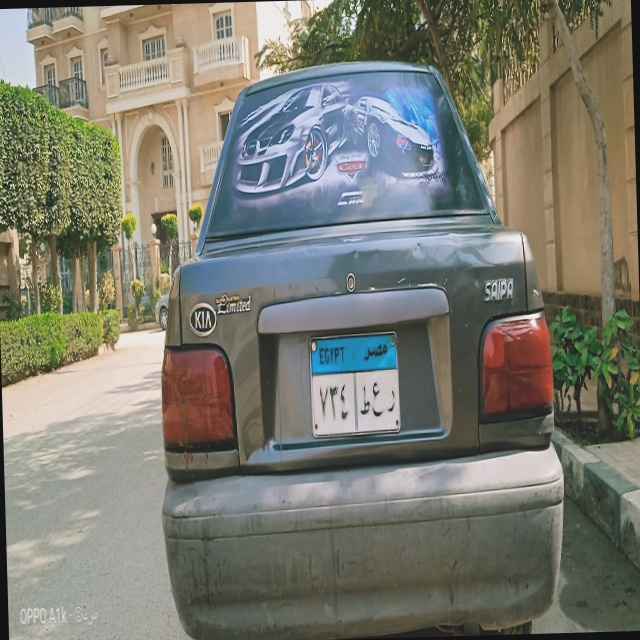License Plate: (307, 329, 403, 441)
